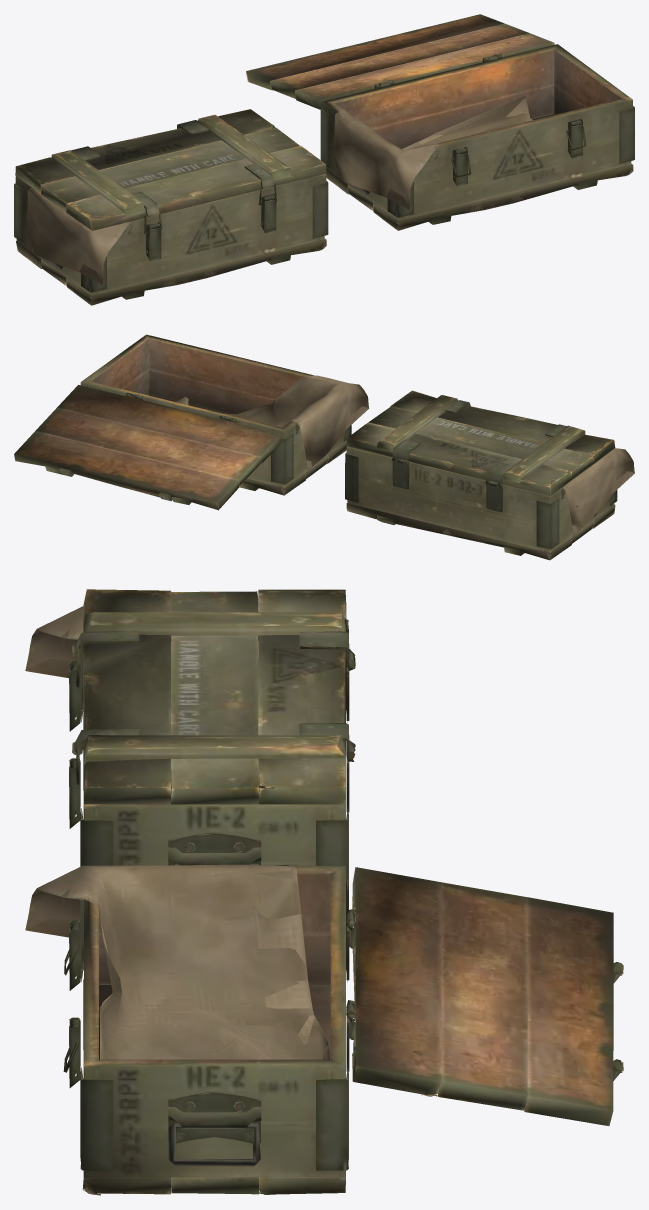
The model's file is old_military_crate.glb.
The picture shows the model from 3 angles, top to bottom: view 1: azimuth 30°, elevation 25°; view 2: azimuth 150°, elevation 25°; view 3: azimuth 270°, elevation 25°; orthographic projection. The views are drawn at different scales.
Parts seen in each view (by area): view 1: old_military_crate_a; view 2: old_military_crate_a; view 3: old_military_crate_a.
Boxes of the visible parts, bbox=[...] form: old_military_crate_a: bbox=[14, 14, 634, 305]; old_military_crate_a: bbox=[14, 334, 634, 560]; old_military_crate_a: bbox=[25, 589, 623, 1195].
Size of the model in its own units: 1.81 by 0.2964 by 0.9751.
Materials: 1 (1 with a texture image).
